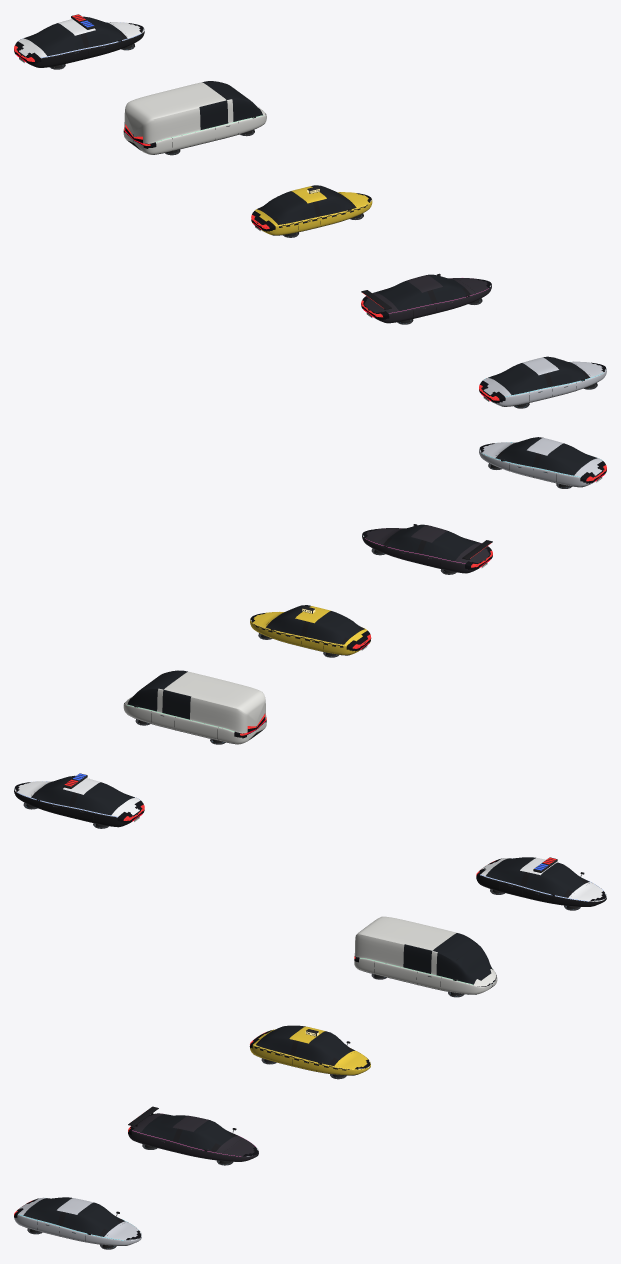
The model's file is vehicles.glb.
3 renders of one model, top to bottom at view 1: azimuth 30°, elevation 25°; view 2: azimuth 150°, elevation 25°; view 3: azimuth 330°, elevation 25°, orthographic.
Visible parts, largest first — view 1: VEH_van_body, VEH_police_body, VEH_sedan_body, VEH_sedan_b_body, VEH_taxi_body; view 2: VEH_van_body, VEH_police_body, VEH_sedan_body, VEH_sedan_b_body, VEH_taxi_body; view 3: VEH_van_body, VEH_police_body, VEH_sedan_b_body, VEH_sedan_body, VEH_taxi_body.
Boxes of the visible parts, x1,y1,x2,y2 form: VEH_van_body: (123,81,266,155); VEH_police_body: (14,14,144,69); VEH_sedan_body: (479,356,606,408); VEH_sedan_b_body: (361,273,491,324); VEH_taxi_body: (251,185,372,237); VEH_van_body: (123,670,266,744); VEH_police_body: (14,773,144,828); VEH_sedan_body: (479,437,606,488); VEH_sedan_b_body: (362,524,492,574); VEH_taxi_body: (250,605,371,657); VEH_van_body: (354,916,497,997); VEH_police_body: (476,857,606,910); VEH_sedan_b_body: (128,1106,258,1165); VEH_sedan_body: (14,1197,141,1249); VEH_taxi_body: (249,1025,370,1079).
Bounding box in the file's own units: 5.12 × 1.57 × 34.09.
